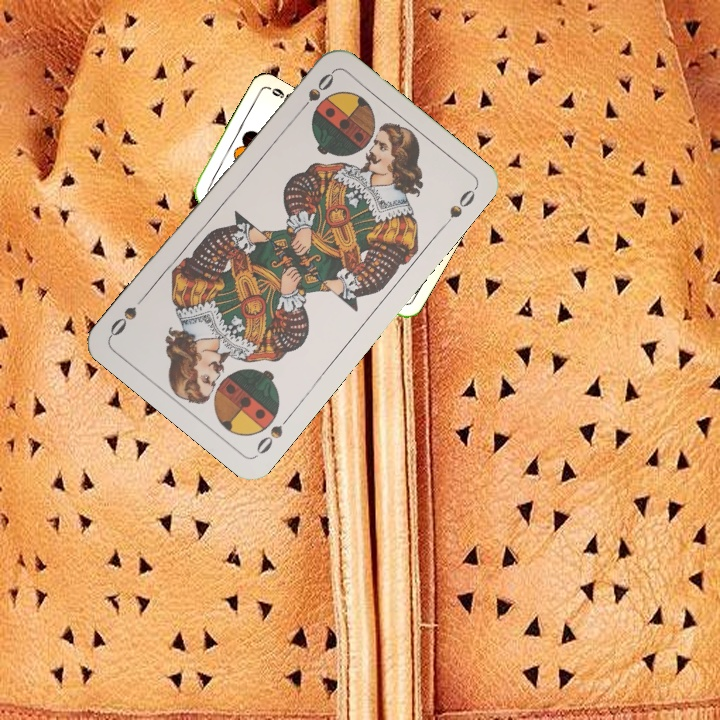SO: (293, 68, 337, 118), (252, 409, 295, 457)
